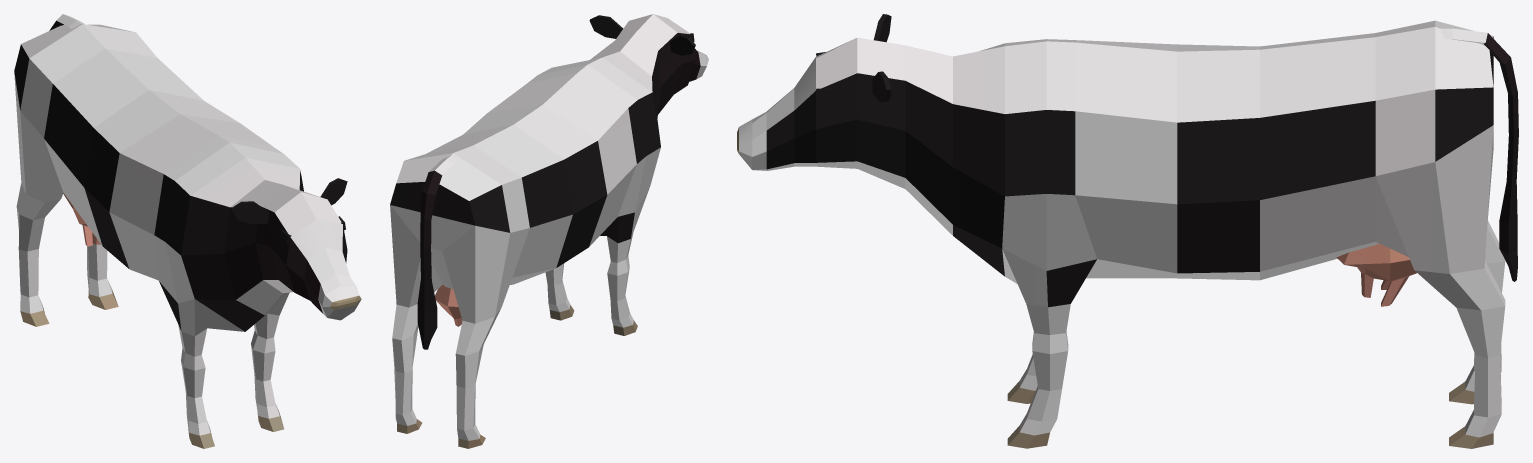
File: animals-cow-043.glb
3 views of the same model, side by side, from view 1: azimuth 30°, elevation 25°; view 2: azimuth 150°, elevation 25°; view 3: azimuth 270°, elevation 25° (orthographic). The views are drawn at different scales.
Parts seen in each view (by area): view 1: Geo_Cow; view 2: Geo_Cow; view 3: Geo_Cow.
Boxes of the visible parts, bbox=[...] form: Geo_Cow: bbox=[14, 14, 361, 448]; Geo_Cow: bbox=[390, 14, 708, 448]; Geo_Cow: bbox=[737, 14, 1518, 448].
Size of the model in its own units: 72.82 by 146 by 263.
Materials: 1 (1 with a texture image).
